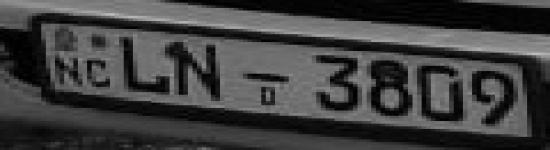-: (242, 68, 294, 90)
0: (416, 63, 472, 126)
3: (306, 51, 366, 114)
8: (366, 56, 417, 119)
9: (466, 66, 521, 129)
C: (85, 58, 118, 89)
L: (116, 35, 172, 96)
N: (170, 37, 231, 102), (51, 54, 84, 86)
